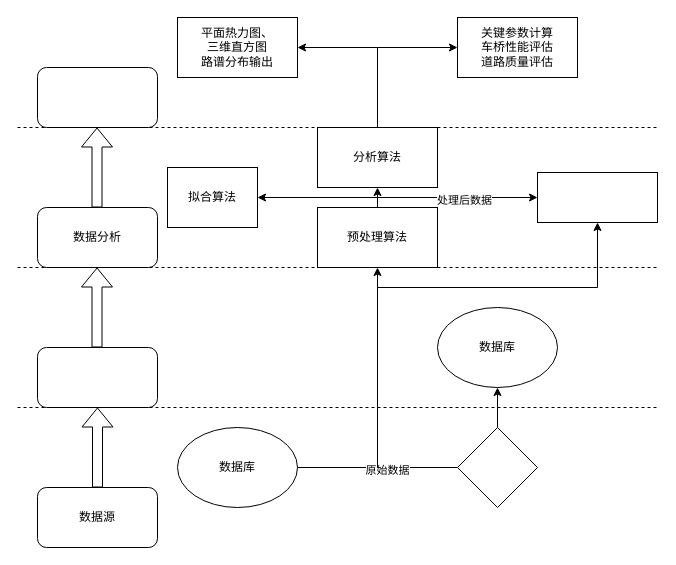
The diagram is 676 pixels wide and 565 high, and some of its shapes have lost their labels. The centre of each missing label's shape, as x and y in pixels:
可视化与应用: the point at 97,97
数据存储: the point at 97,377
数据采集: the point at 497,467
比对分析: the point at 597,197
